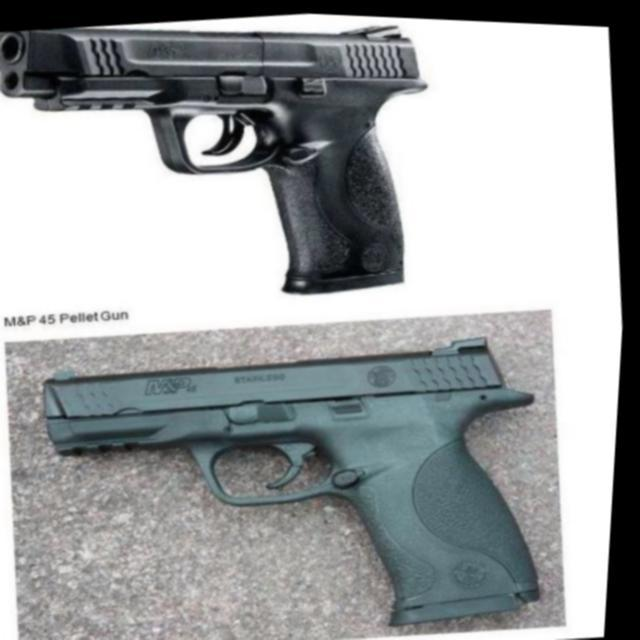weapon: (30, 309, 565, 640), (0, 0, 451, 326)
